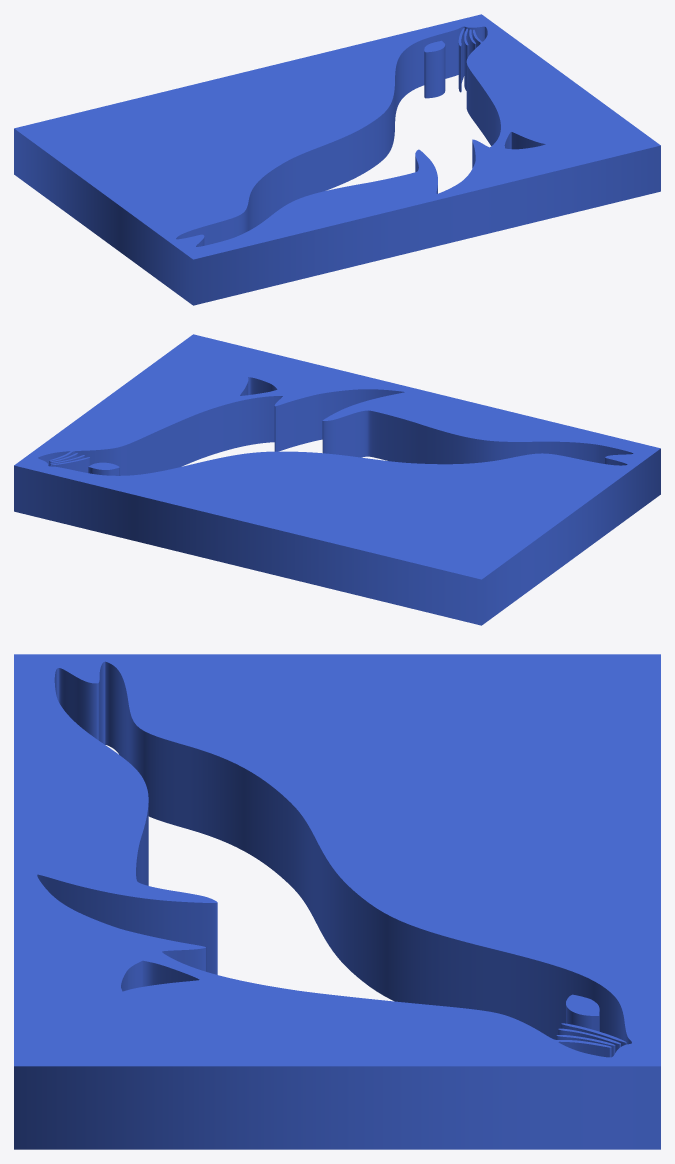
File: mariadb.fbx
3 views of the same model, one above another, from view 1: azimuth 30°, elevation 25°; view 2: azimuth 150°, elevation 25°; view 3: azimuth 270°, elevation 25° (orthographic). The views are drawn at different scales.
Visible parts, largest first — view 1: Curve, Curve.005; view 2: Curve; view 3: Curve, Curve.005.
Boxes of the visible parts, <box> form: Curve: <box>14,14,660,305</box>; Curve.005: <box>424,40,445,98</box>; Curve: <box>14,334,660,625</box>; Curve: <box>14,654,660,1149</box>; Curve.005: <box>566,994,599,1031</box>.
Size of the model in its own units: 6.37 by 0.6 by 4.23.
